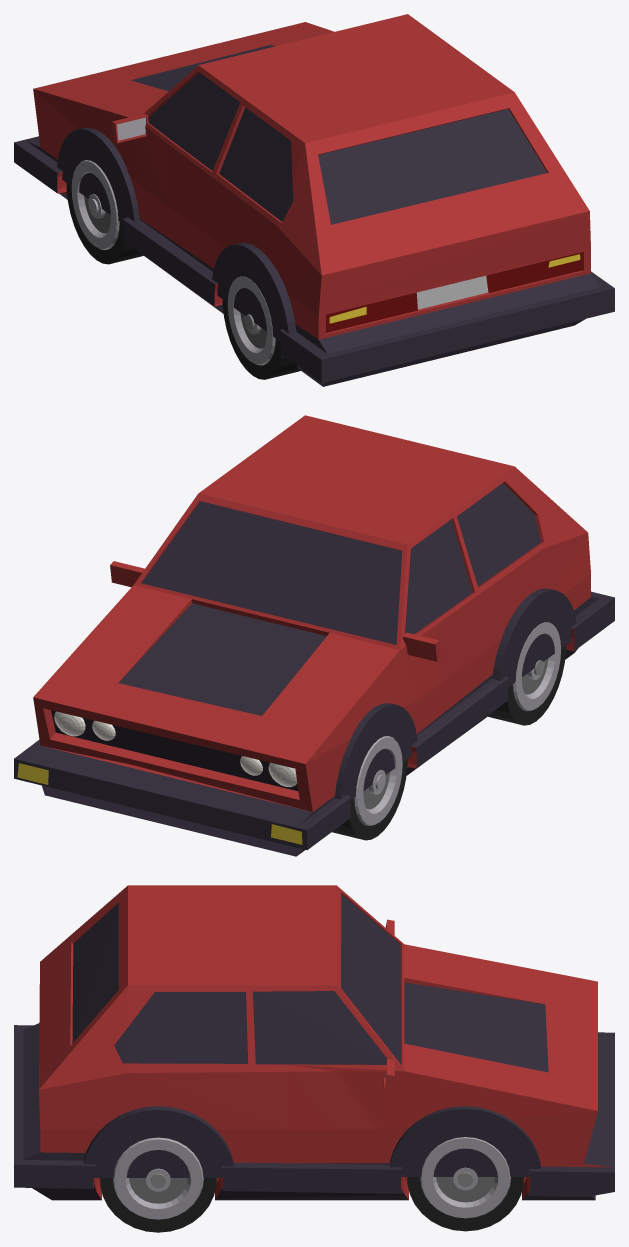
File: red_golf.fbx
3 renders of one model, top to bottom at view 1: azimuth 30°, elevation 25°; view 2: azimuth 150°, elevation 25°; view 3: azimuth 270°, elevation 25°, orthographic. The views are drawn at different scales.
Visible parts, largest first — view 1: 车轮_4; view 2: 车轮_4; view 3: 车轮_4.
Part boxes in pixels (x1,y1,x2,y2): 车轮_4: (14, 14, 614, 386); 车轮_4: (14, 415, 614, 856); 车轮_4: (14, 885, 614, 1232).
Size of the model in its own units: 311 by 214 by 509.
